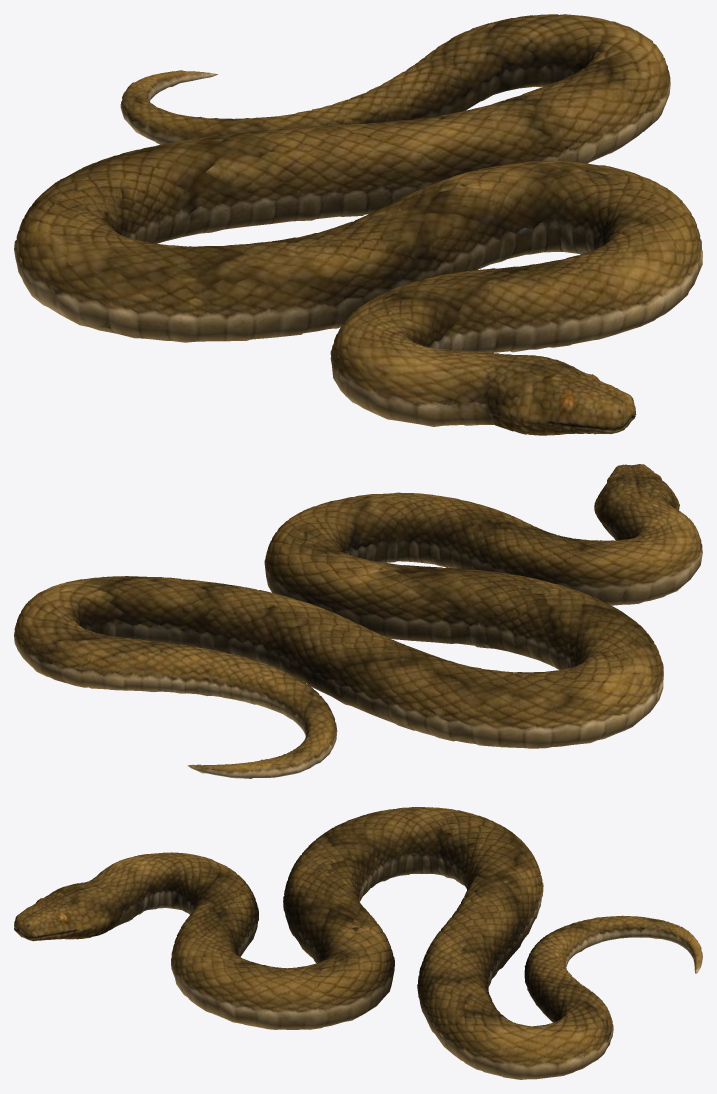
Rendered from MZ4250 - Constrictor Snake_Brown.glb.
3 views of the same model, one above another, from view 1: azimuth 30°, elevation 25°; view 2: azimuth 150°, elevation 25°; view 3: azimuth 270°, elevation 25° (orthographic). The views are drawn at different scales.
Parts seen in each view (by area): view 1: ORGANIC BASE SPHERE.003; view 2: ORGANIC BASE SPHERE.003; view 3: ORGANIC BASE SPHERE.003.
Part boxes in pixels (x1=…): ORGANIC BASE SPHERE.003: x1=14, y1=14, x2=702, y2=435; ORGANIC BASE SPHERE.003: x1=14, y1=464, x2=702, y2=778; ORGANIC BASE SPHERE.003: x1=14, y1=807, x2=702, y2=1079.
Size of the model in its own units: 1.05 by 0.1166 by 1.28.
Materials: 1 (1 with a texture image).
